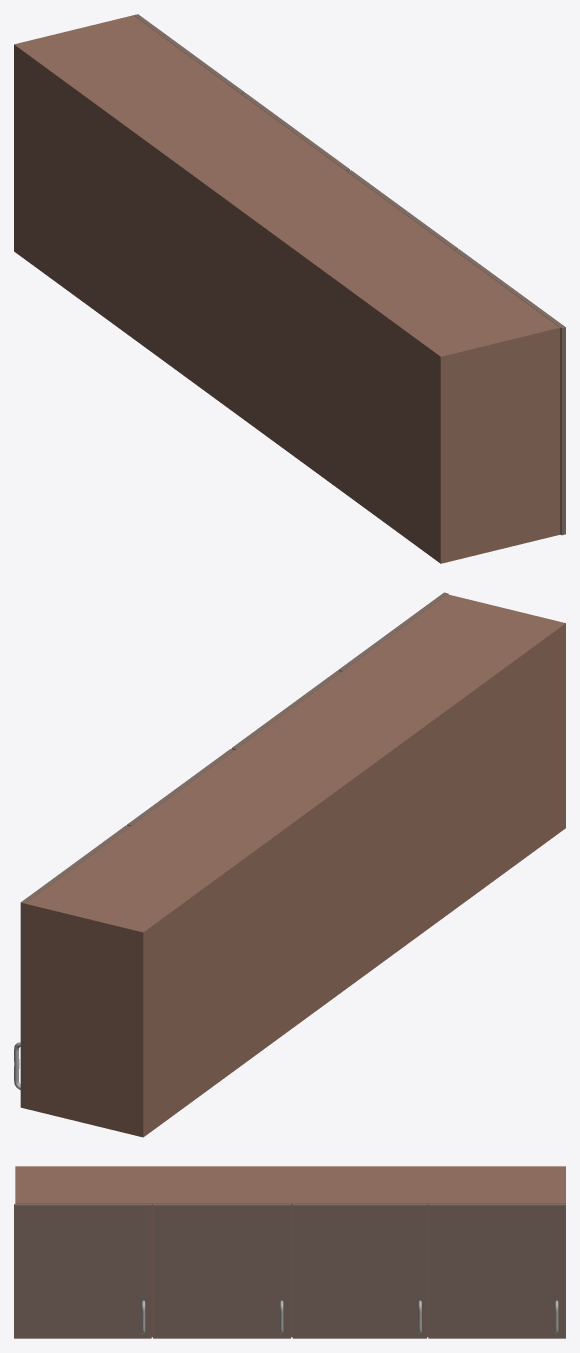
File: Top Cabinets Brown.fbx
3 views of the same model, one above another, from view 1: azimuth 30°, elevation 25°; view 2: azimuth 150°, elevation 25°; view 3: azimuth 270°, elevation 25° (orthographic). The views are drawn at different scales.
Visible parts, largest first — view 1: pCube80 (×2), pCube78, pCube82, pCube83; view 2: pCube80 (×2), pCube78, pCube82, pCube79; view 3: pCube79 (×2), pCube83, pCube84, pCube80 (×2), pCube82, pCube78.
Boxes of the visible parts, left/top/right/bottom form: pCube80 (×2): left=14, top=15, right=452, bottom=485; pCube78: left=334, top=249, right=560, bottom=563; pCube82: left=121, top=93, right=345, bottom=406; pCube83: left=455, top=249, right=565, bottom=535; pCube80 (×2): left=25, top=672, right=460, bottom=1137; pCube78: left=342, top=594, right=565, bottom=905; pCube82: left=131, top=749, right=354, bottom=1059; pCube79: left=20, top=825, right=130, bottom=1108; pCube79 (×2): left=153, top=1204, right=565, bottom=1338; pCube83: left=14, top=1204, right=151, bottom=1338; pCube84: left=292, top=1204, right=426, bottom=1338; pCube80 (×2): left=153, top=1166, right=565, bottom=1336; pCube82: left=290, top=1166, right=428, bottom=1337; pCube78: left=15, top=1166, right=153, bottom=1337.
Bounding box in the file's own units: 1.15 × 1.66 × 6.2.
